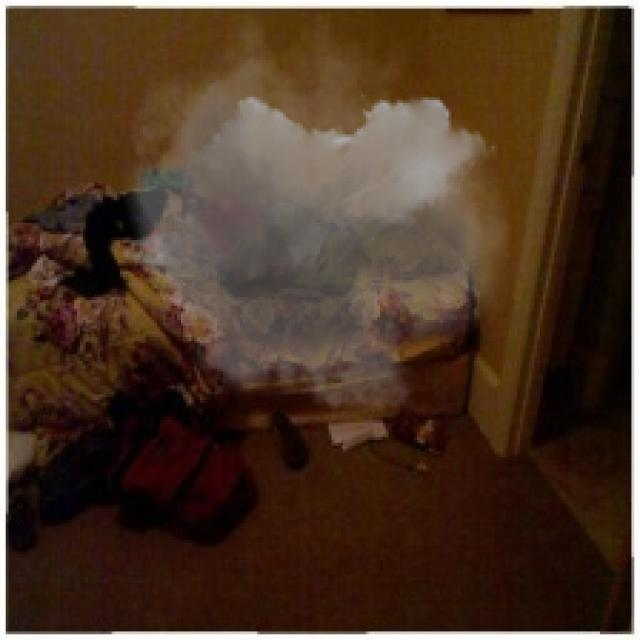Smoke: (109, 11, 512, 432)
